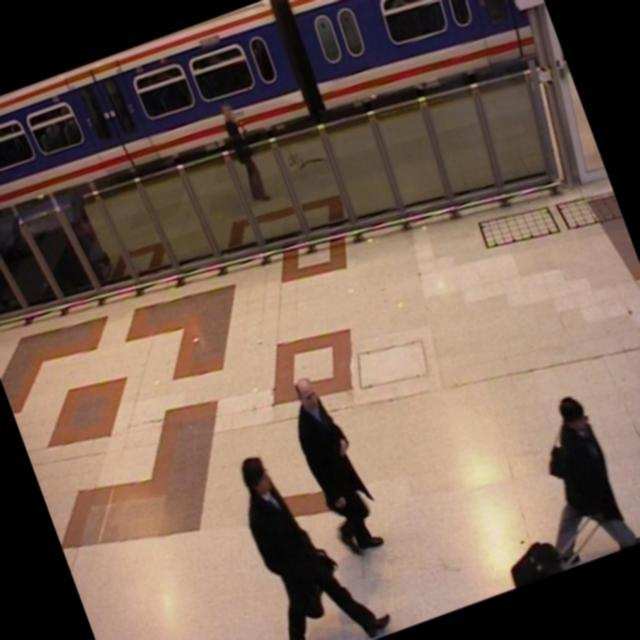person: (222, 427, 400, 640), (274, 364, 398, 572), (507, 382, 640, 570), (210, 86, 282, 214)
